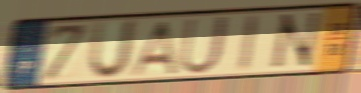7: (45, 21, 91, 83)
A: (126, 19, 181, 78)
I: (236, 12, 262, 74)
N: (266, 10, 324, 72)
U: (177, 13, 232, 77), (86, 18, 141, 82)
